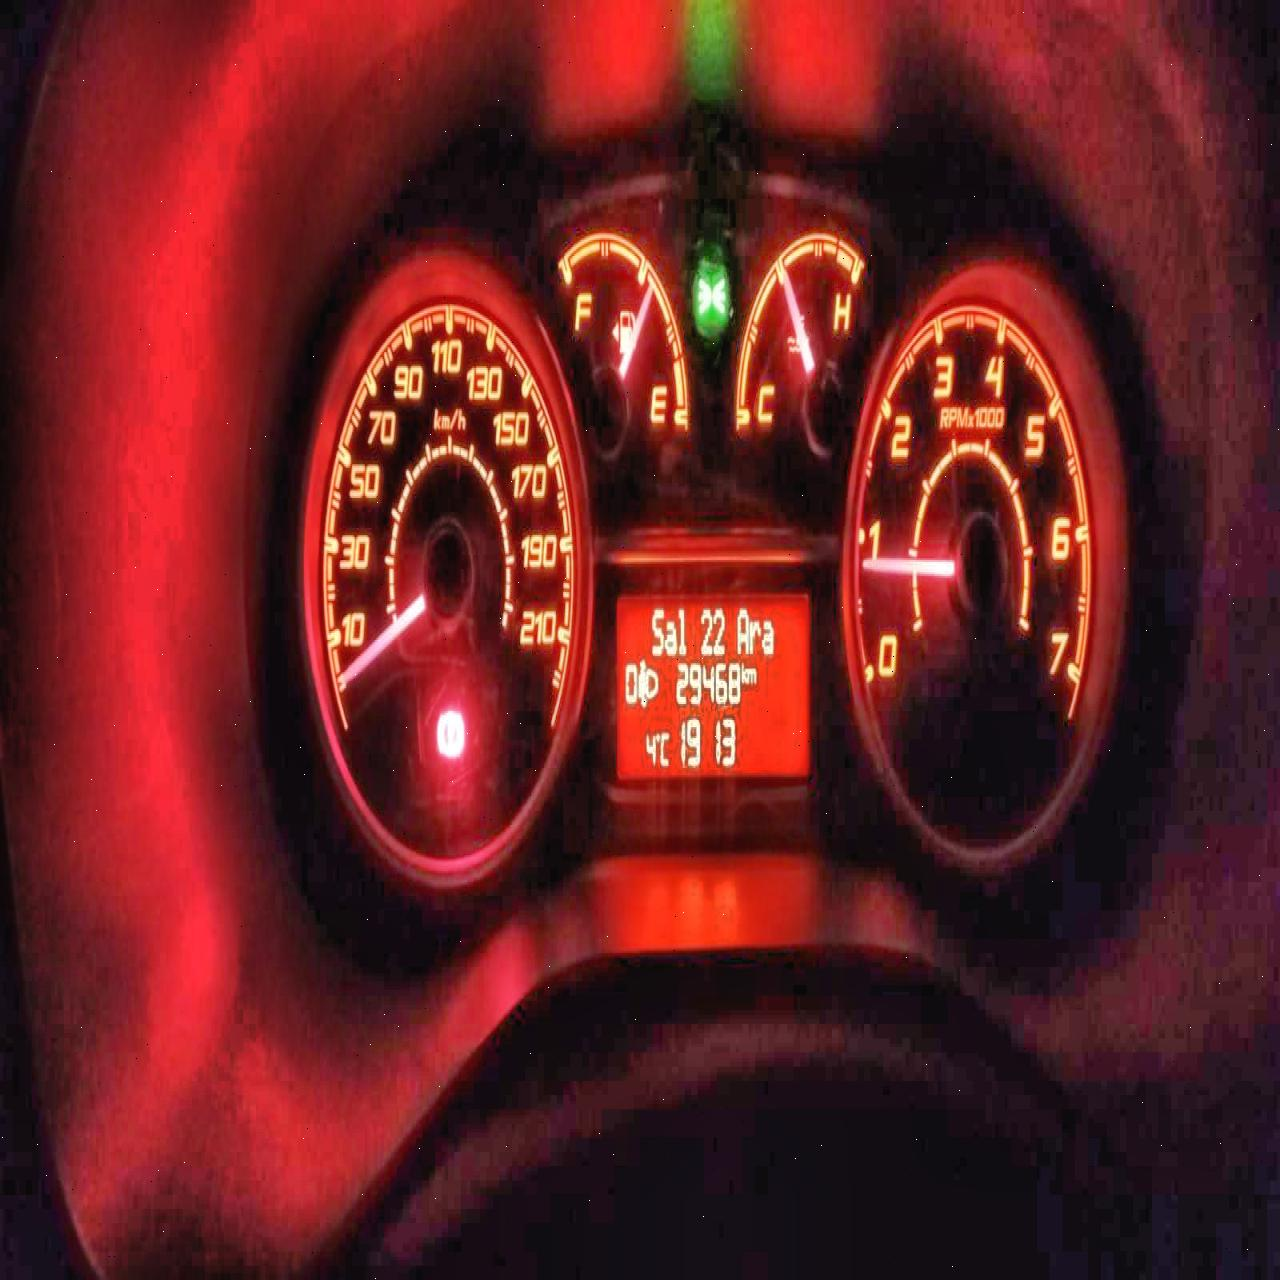0: (624, 658, 636, 704)
1: (714, 715, 721, 768), (679, 716, 685, 767)
2: (699, 605, 712, 655), (713, 605, 724, 655), (675, 661, 688, 703)
3: (722, 713, 736, 767)
4: (701, 661, 715, 703), (646, 726, 655, 767)
6: (715, 660, 728, 704)
8: (728, 658, 741, 704)
9: (686, 715, 700, 767), (688, 658, 700, 704)
X: (651, 605, 663, 655), (737, 605, 749, 654), (665, 617, 678, 654), (678, 602, 687, 653), (763, 615, 775, 654), (660, 729, 670, 768), (749, 617, 760, 654), (747, 663, 757, 685), (741, 660, 747, 685)
odometer: (613, 591, 812, 785)
